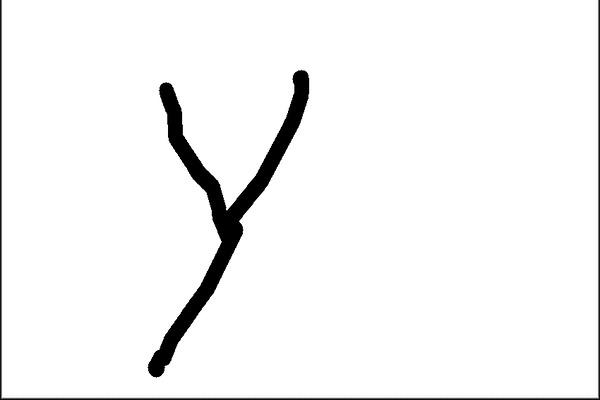Y: (136, 48, 328, 399)
